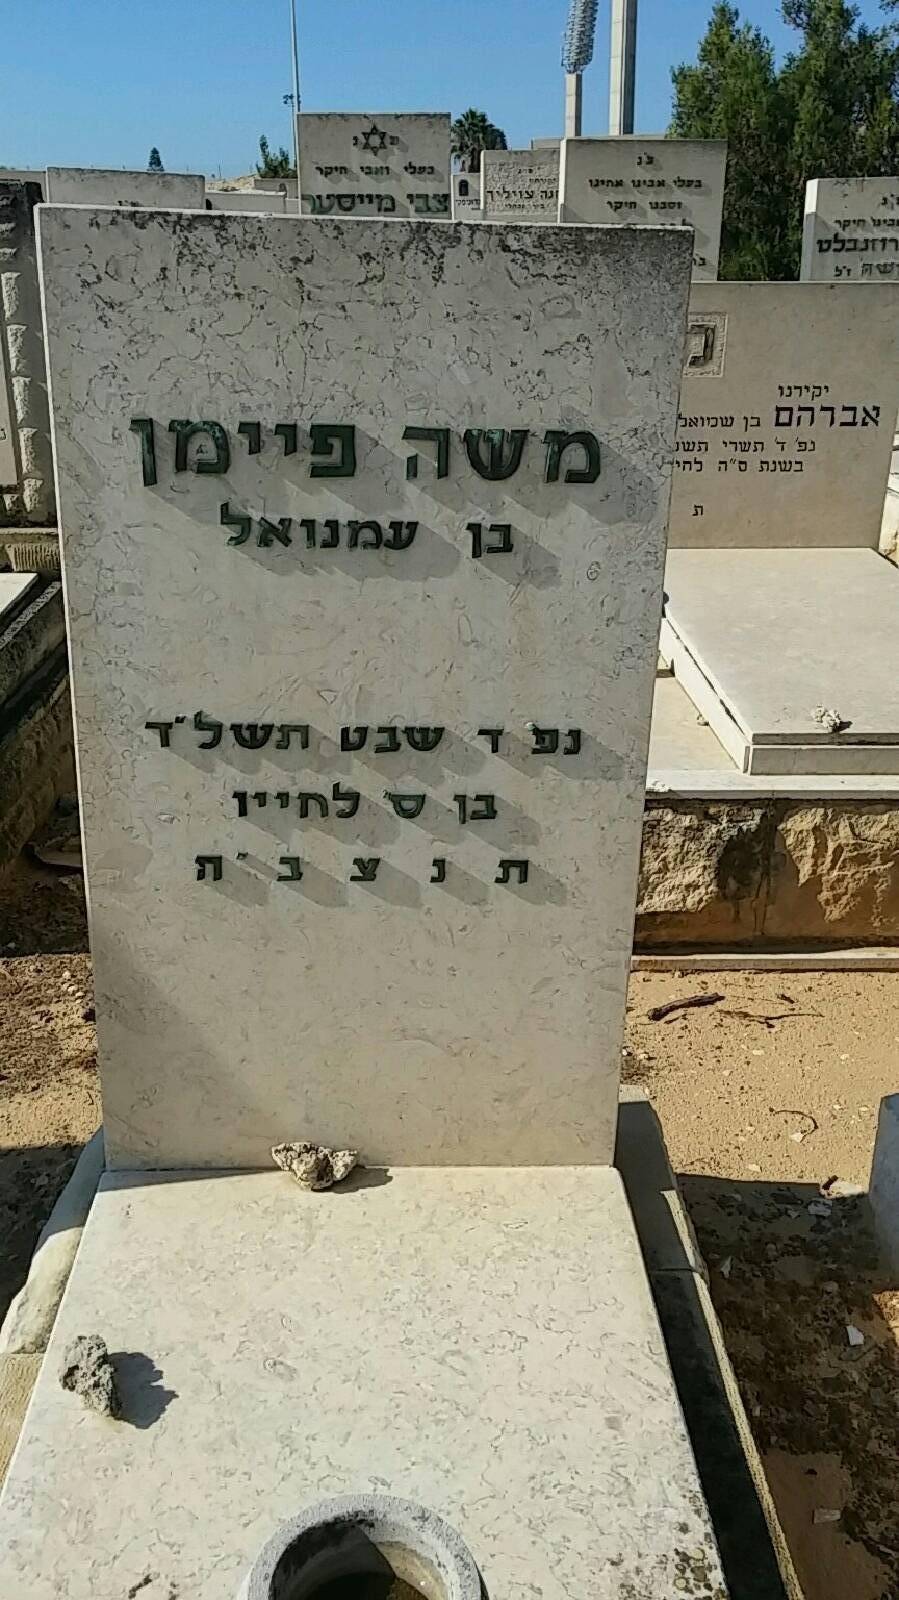vault: (27, 204, 693, 1600)
